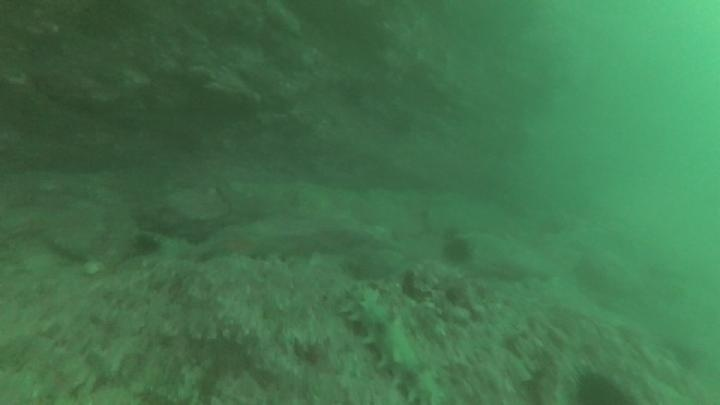echinus: (568, 368, 633, 404), (439, 234, 475, 268)
holothurian: (337, 284, 444, 405)
starfish: (196, 225, 278, 266)
